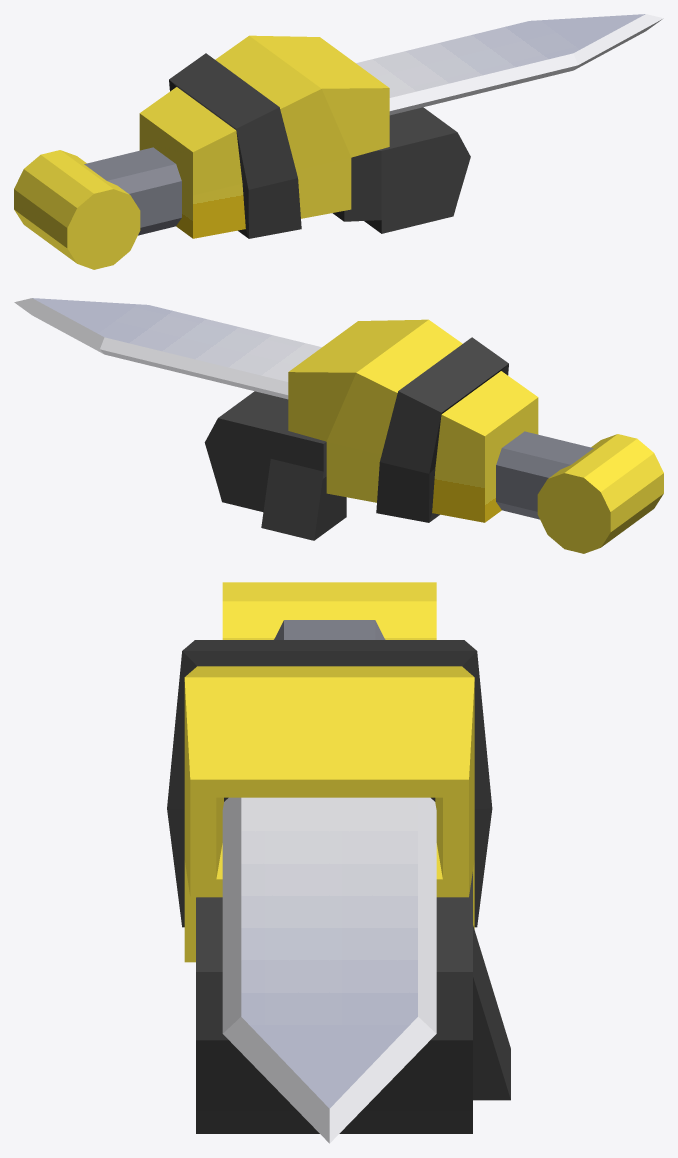
Rendered from StingerRightArm.obj.
3 views of the same model, one above another, from view 1: azimuth 30°, elevation 25°; view 2: azimuth 150°, elevation 25°; view 3: azimuth 270°, elevation 25° (orthographic). The views are drawn at different scales.
Visible parts, largest first — view 1: Forearm, cuboid, cylinder, Arm; view 2: Forearm, cuboid, cylinder, Arm; view 3: cuboid, Forearm, cylinder, Arm.
Boxes of the visible parts, x1,y1,x2,y2 form: Forearm: (139, 35, 389, 238); cuboid: (332, 14, 663, 233); cylinder: (14, 150, 140, 269); Arm: (84, 147, 181, 235); Forearm: (288, 319, 538, 522); cuboid: (14, 298, 346, 540); cylinder: (537, 434, 663, 553); Arm: (496, 431, 593, 519); cuboid: (196, 797, 510, 1143); Forearm: (167, 640, 492, 962); cylinder: (222, 582, 436, 639); Arm: (274, 620, 385, 639).
Bounding box in the file's own units: 1.18 × 0.3063 × 0.2816.
Materials: 1 (1 with a texture image).
